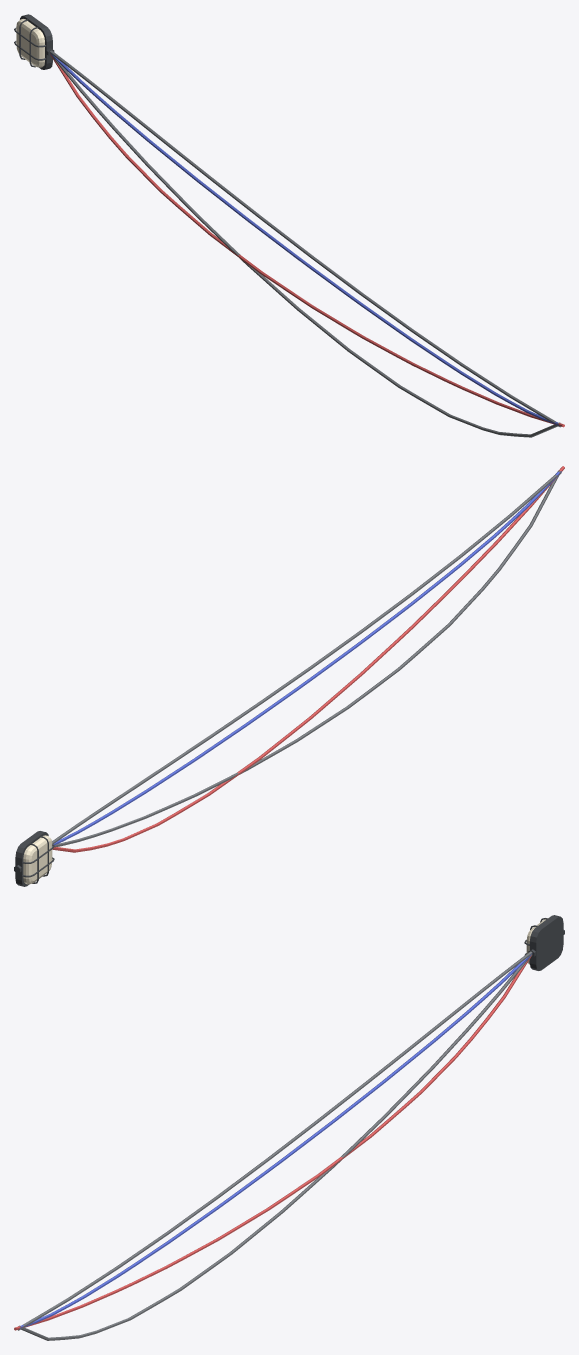
File: Light_WithWires_Long.fbx
The picture shows the model from 3 angles, top to bottom: view 1: azimuth 30°, elevation 25°; view 2: azimuth 150°, elevation 25°; view 3: azimuth 330°, elevation 25°; orthographic projection.
Visible parts, largest first — view 1: Light_NoWires; view 2: Light_NoWires; view 3: Light_NoWires.
Part boxes in pixels (x1,y1,x2,y2): Light_NoWires: (14,14,564,437); Light_NoWires: (14,466,564,886); Light_NoWires: (14,915,564,1340).
Bounding box in the file's own units: 7.87 × 51.66 × 505.
